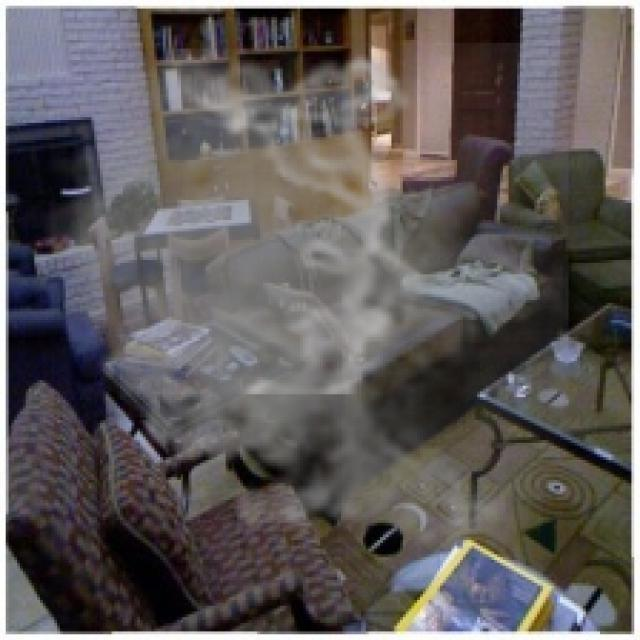Smoke: (22, 43, 568, 566)
